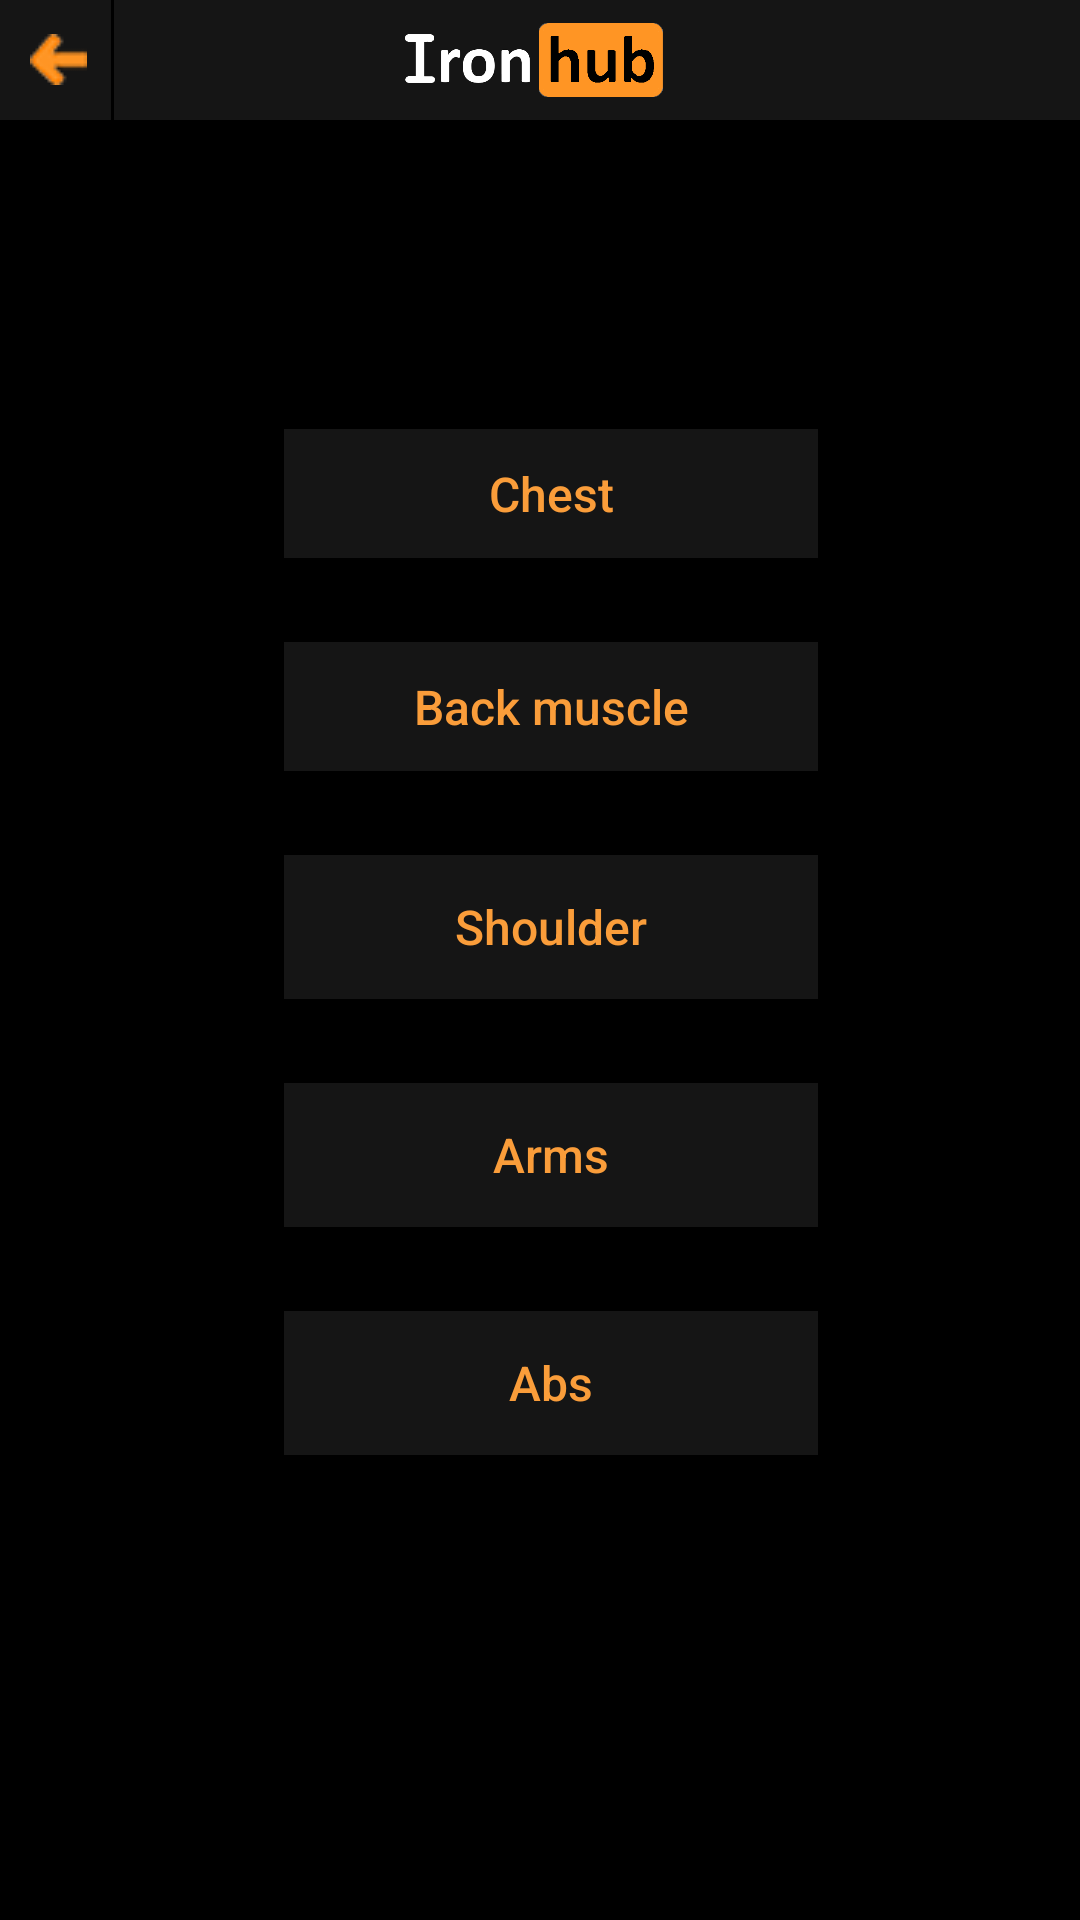

Named icons in this screenshot (1080 x 1920) and their bounding boxes, detection(x1, y1, x2, y2):
backbutton: detection(30, 34, 87, 85)
